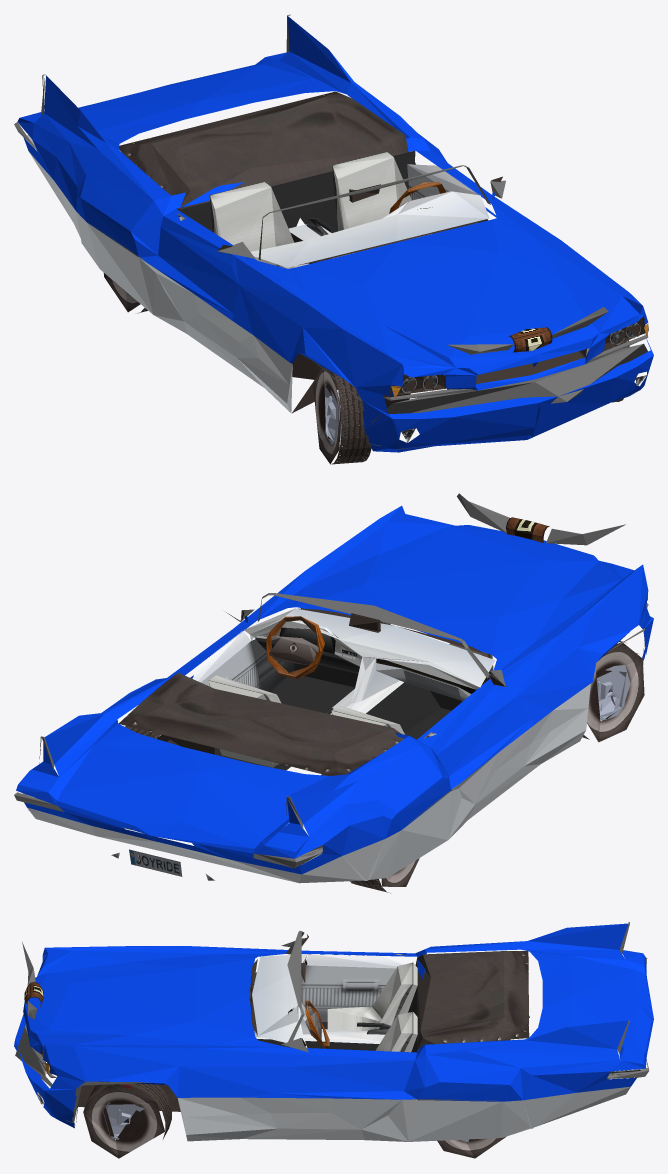
The model's file is classic_lo.glb.
3 renders of one model, top to bottom at view 1: azimuth 30°, elevation 25°; view 2: azimuth 150°, elevation 25°; view 3: azimuth 270°, elevation 25°, orthographic. The views are drawn at different scales.
Visible parts, largest first — view 1: polySurface11.10, object 23, object 22, object 10, polySurface5.4, object 4, object 15, object 14, object 18, object 17, object 16; view 2: polySurface11.10, object 22, object 23, object 14, polySurface5.4, object 10, object 18, object 16, object 11, object 12, object 4, object 26 (+2 smaller); view 3: polySurface11.10, object 22, object 23, object 14, object 10, polySurface5.4, object 15, object 21, object 16, object 4, object 12.
Boxes of the visible parts, x1,y1,x2,y2 form: polySurface11.10: (17, 16, 653, 452); object 23: (119, 91, 408, 209); object 22: (177, 150, 489, 267); object 10: (209, 152, 431, 268); polySurface5.4: (41, 14, 648, 449); object 4: (218, 176, 648, 396); object 15: (137, 162, 629, 464); object 14: (103, 273, 341, 464); object 18: (447, 307, 608, 354); object 17: (508, 327, 552, 352); object 16: (324, 348, 589, 444); polySurface11.10: (16, 505, 653, 883); object 22: (192, 608, 495, 770); object 23: (118, 672, 404, 775); object 14: (167, 622, 644, 886); polySurface5.4: (28, 593, 648, 881); object 10: (208, 675, 404, 767); object 18: (457, 493, 625, 545); object 16: (596, 665, 630, 720); object 11: (269, 636, 318, 665); object 12: (266, 616, 324, 679); object 4: (226, 608, 506, 686); object 26: (14, 792, 321, 868); polySurface11.10: (14, 923, 653, 1141); object 22: (249, 954, 417, 1052); object 23: (417, 951, 529, 1049); object 14: (83, 1084, 506, 1158); object 10: (327, 962, 417, 1052); polySurface5.4: (15, 922, 629, 1122); object 15: (87, 1081, 171, 1139); object 21: (76, 1016, 529, 1122); object 16: (102, 1102, 469, 1142); object 4: (40, 934, 308, 1076); object 12: (305, 1000, 329, 1048).
Bounding box in the file's own units: 0.4709 × 0.2393 × 1.
25 materials, 21 textured.
